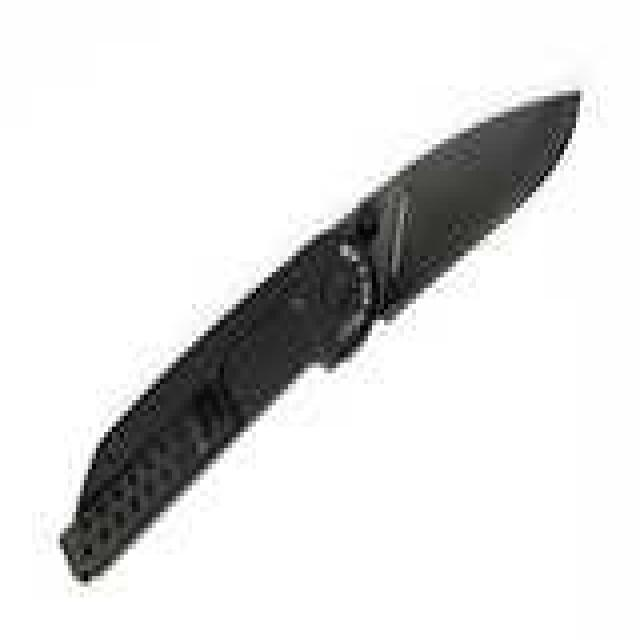Knife: (49, 71, 591, 588)
